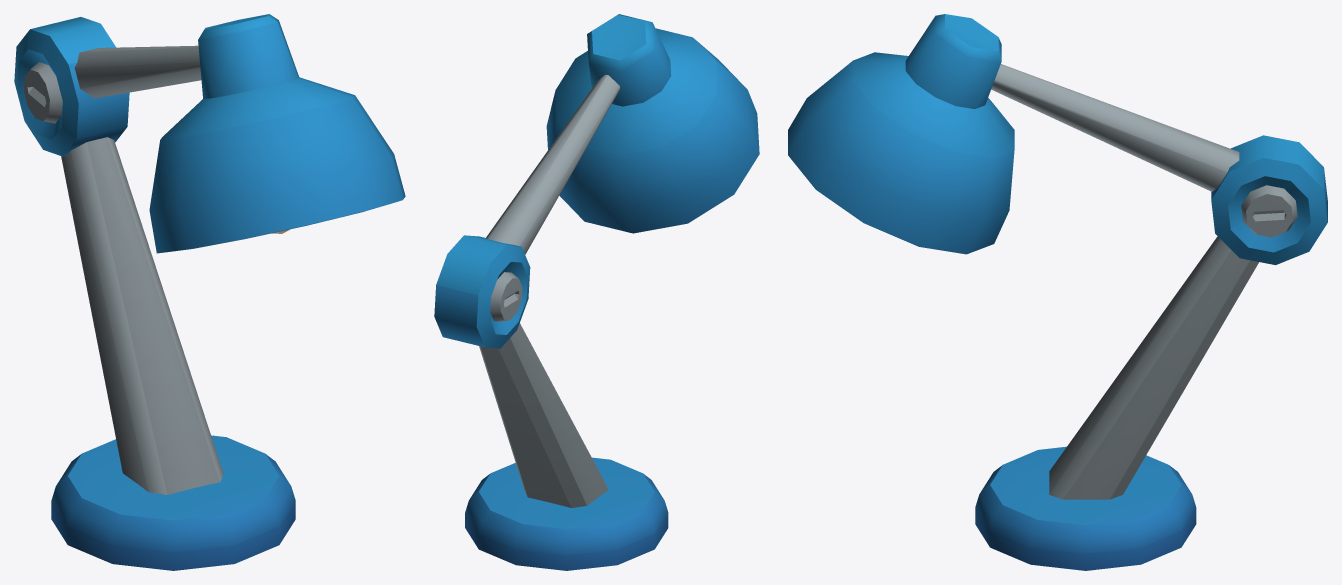
The model's file is Lamp_Workbench.obj.
3 views of the same model, side by side, from view 1: azimuth 30°, elevation 25°; view 2: azimuth 150°, elevation 25°; view 3: azimuth 270°, elevation 25° (orthographic). The views are drawn at different scales.
Visible parts, largest first — view 1: Lamp_Workbench; view 2: Lamp_Workbench; view 3: Lamp_Workbench.
Boxes of the visible parts, x1,y1,x2,y2 form: Lamp_Workbench: (14,14,405,570); Lamp_Workbench: (434,14,759,570); Lamp_Workbench: (788,14,1327,570).
Size of the model in its own units: 0.4662 by 1.13 by 1.1.
Materials: 1 (1 with a texture image).
